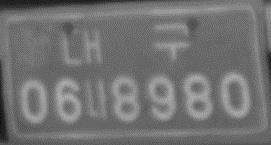0: (220, 70, 251, 117), (19, 78, 50, 124)
6: (54, 76, 83, 124)
8: (183, 72, 214, 121), (111, 73, 140, 122)
9: (146, 74, 177, 121)
나: (83, 77, 110, 121)
대구_D: (59, 21, 193, 68)
영: (17, 27, 56, 69)
